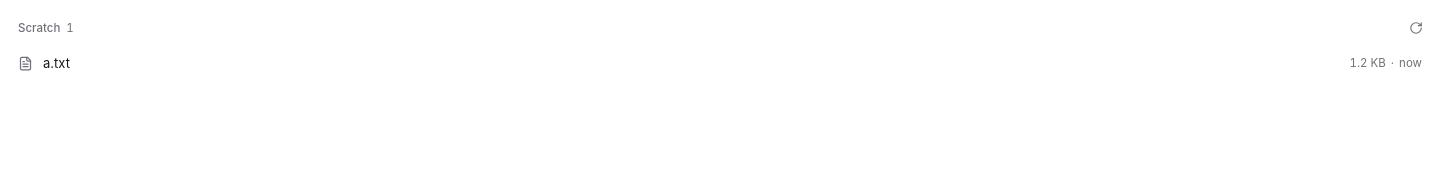
Files page › keeps the last list when a refresh fails, with a retry
Click the button named "Refresh files" at (1416, 28), box [1402,14,1430,42]
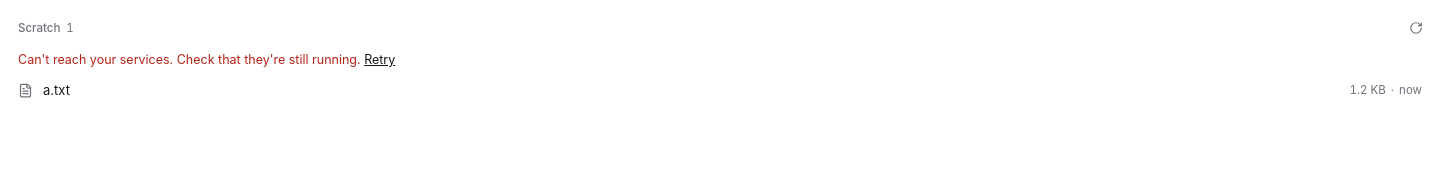
Expected: the button "a.txt 1.2 KB · now" is shown, [8,73,1432,107]
Now the text "Can't reach your services" is shown, box [18,52,361,67]
Click the button "Retry" at (380, 60), box [364,52,395,67]
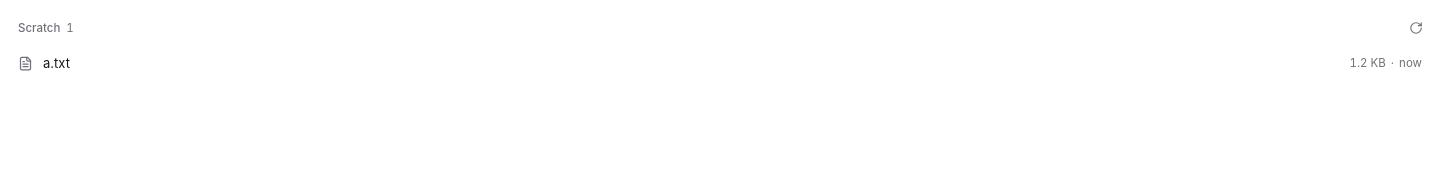
Now the text "Can't reach your services" is gone
